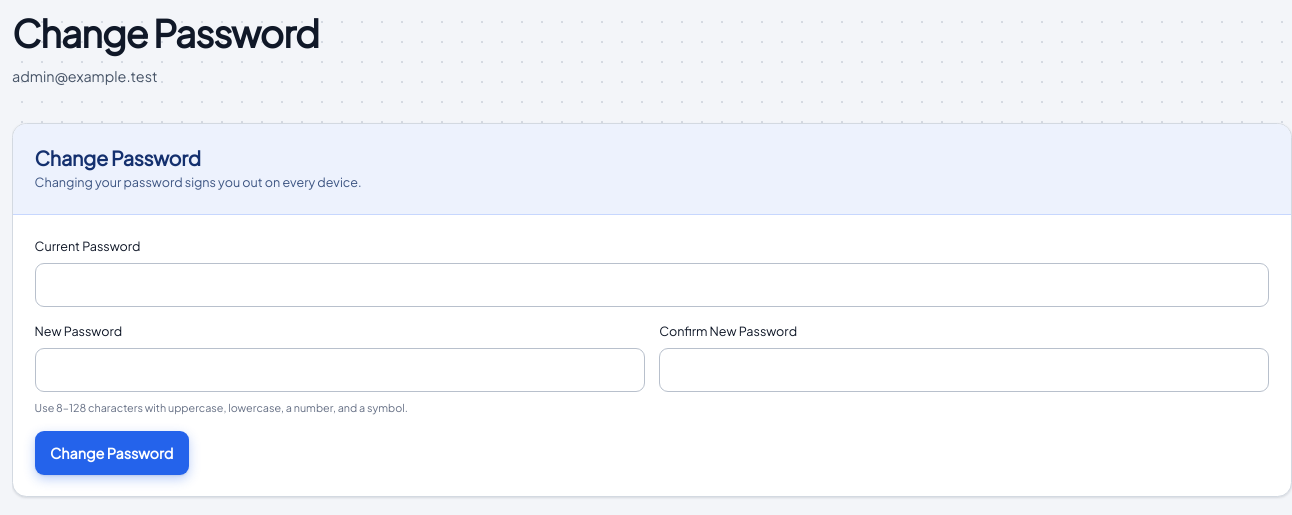
Scenario: Account password form › submits only canonical password fields and returns to sign in
This screenshot has width=1292, height=515.
Type "old synthetic passphrase" into the password field labelled "Current Password" at (652, 285), box [35,263,1269,307]
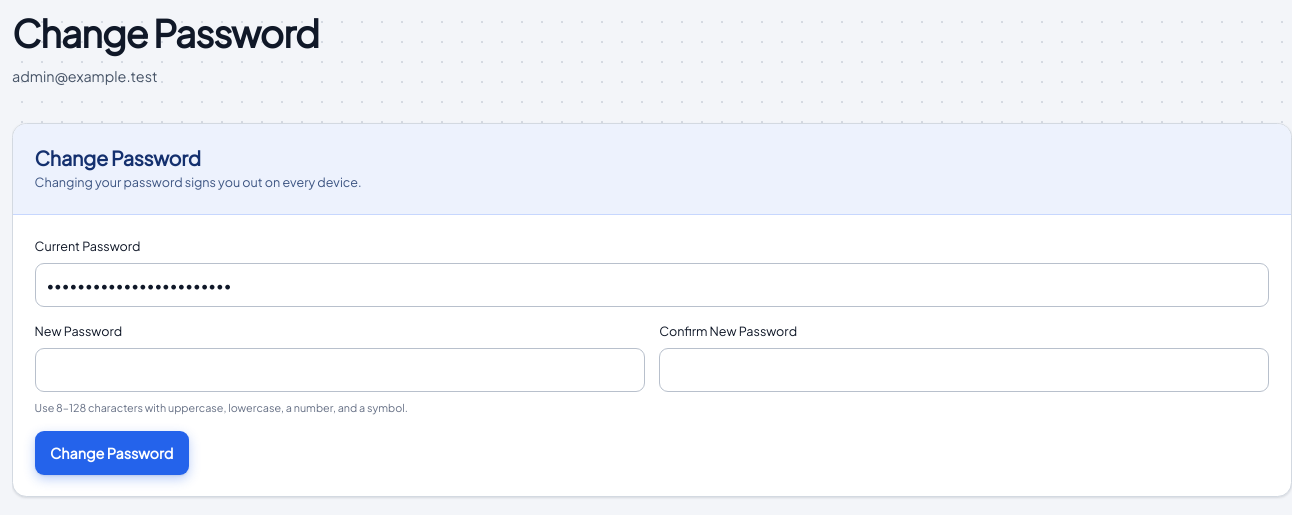
Type "NewSynthetic1!" into the password field labelled "New Password" at (340, 370), box [35,348,645,392]
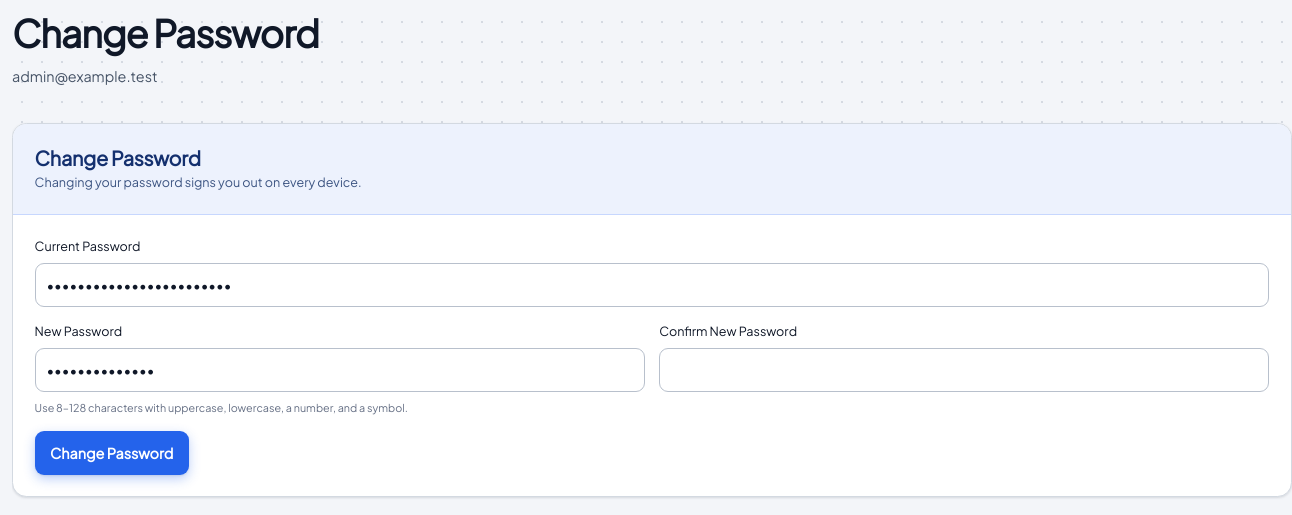
Type "NewSynthetic1!" into the password field labelled "Confirm New Password" at (964, 370), box [659,348,1269,392]
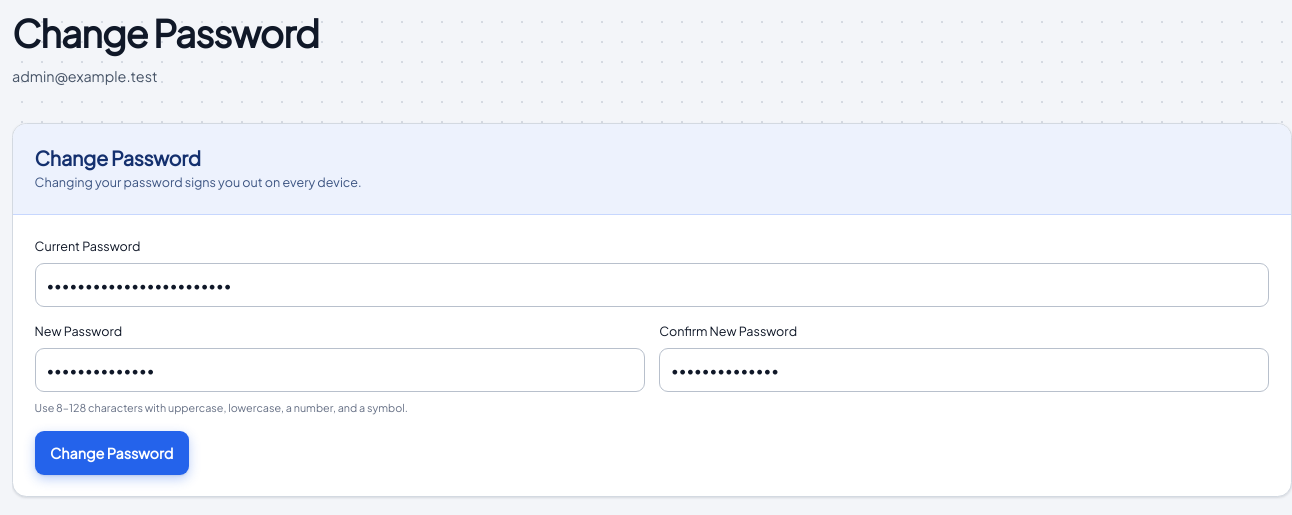
Click the button "Change Password" at (112, 453), box [35,431,189,475]
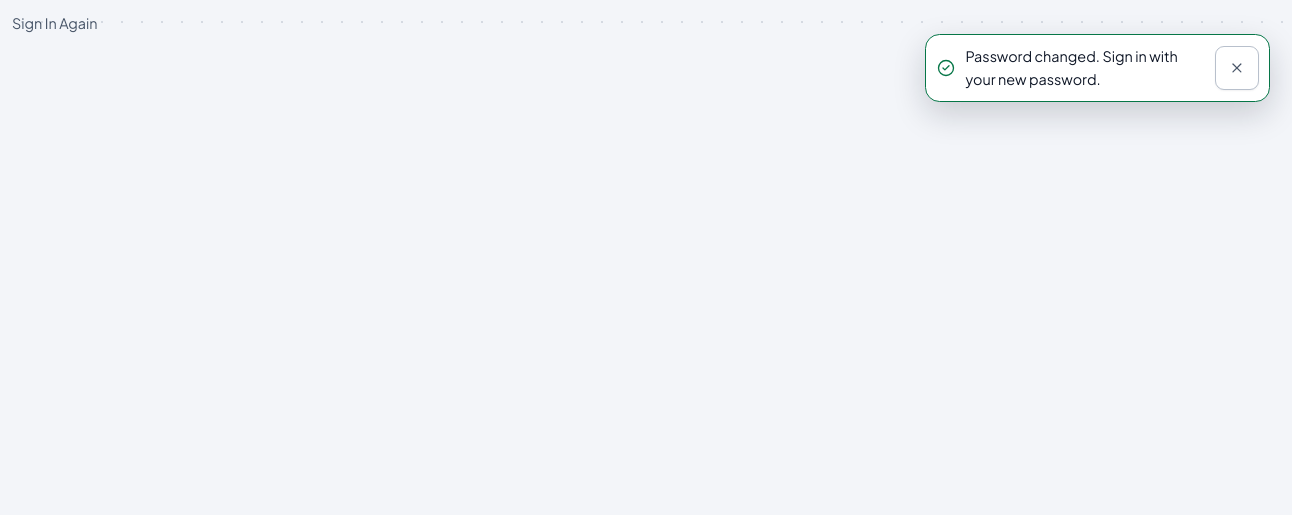
Result: the text "Sign In Again" is shown at [12,14,98,32]
